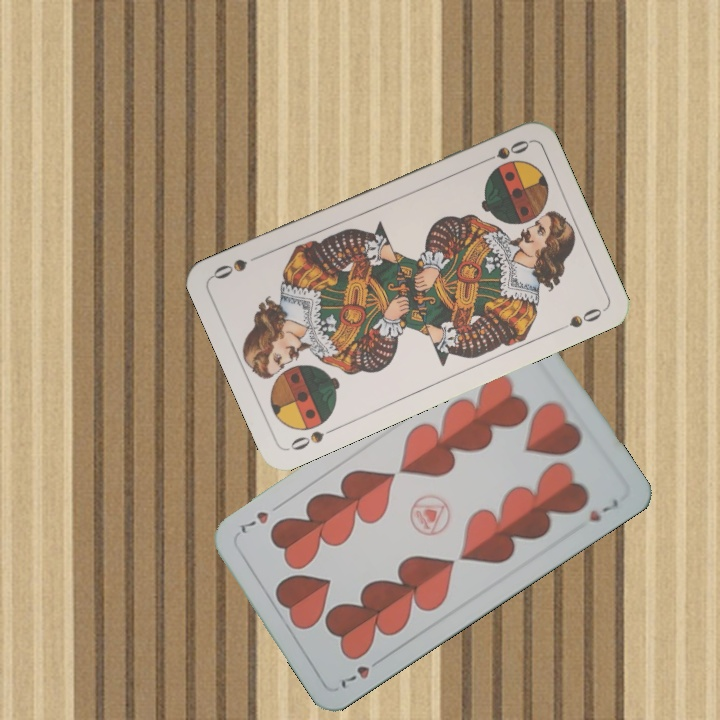H7: (336, 653, 386, 691)
SO: (475, 136, 532, 167), (286, 422, 341, 453)
